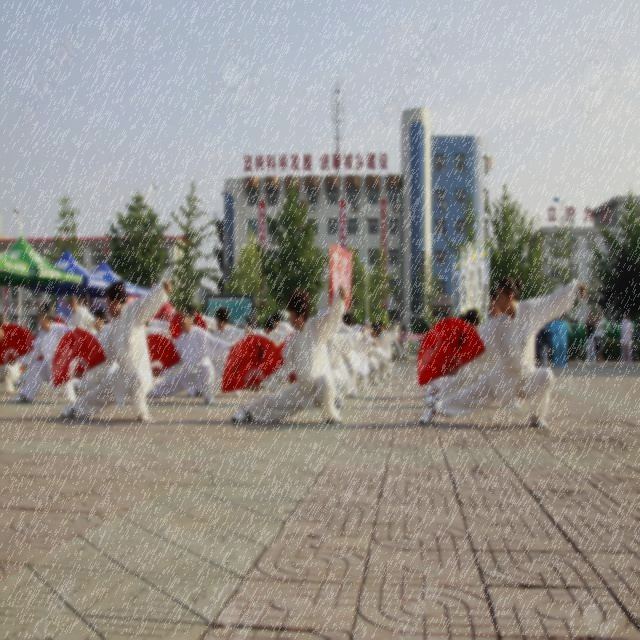pessoa: (413, 270, 590, 433), (219, 282, 350, 430), (432, 274, 566, 411), (48, 276, 174, 420), (266, 291, 348, 409), (146, 304, 235, 405), (0, 298, 83, 406), (423, 308, 481, 398), (210, 304, 254, 398), (362, 318, 408, 390), (337, 312, 372, 389), (342, 312, 371, 391), (74, 308, 114, 348), (236, 310, 278, 348), (66, 293, 100, 338), (140, 304, 175, 346), (542, 316, 560, 368), (552, 312, 568, 369), (591, 310, 606, 370), (190, 305, 220, 335), (261, 317, 291, 345), (262, 317, 290, 347), (584, 311, 598, 370), (620, 310, 634, 368), (228, 312, 262, 332), (390, 318, 404, 364), (536, 322, 550, 367), (454, 307, 472, 332), (400, 324, 410, 362), (593, 316, 598, 326)
